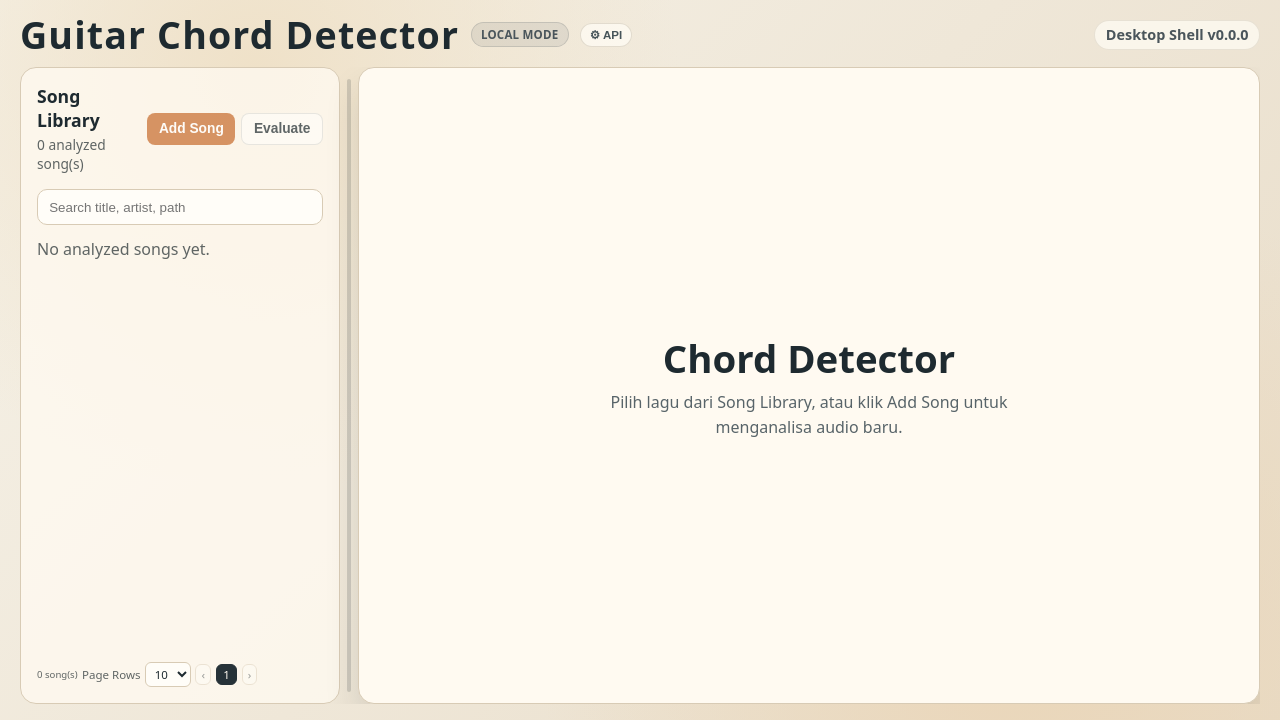
Test: App › renders desktop shell header and idle state
Expected: the heading "Guitar Chord Detector" is shown, [20, 16, 459, 54]
Expected: the button "Open Audio" is not shown
Click the button "Add Song": point(191, 129) [147, 113, 235, 145]
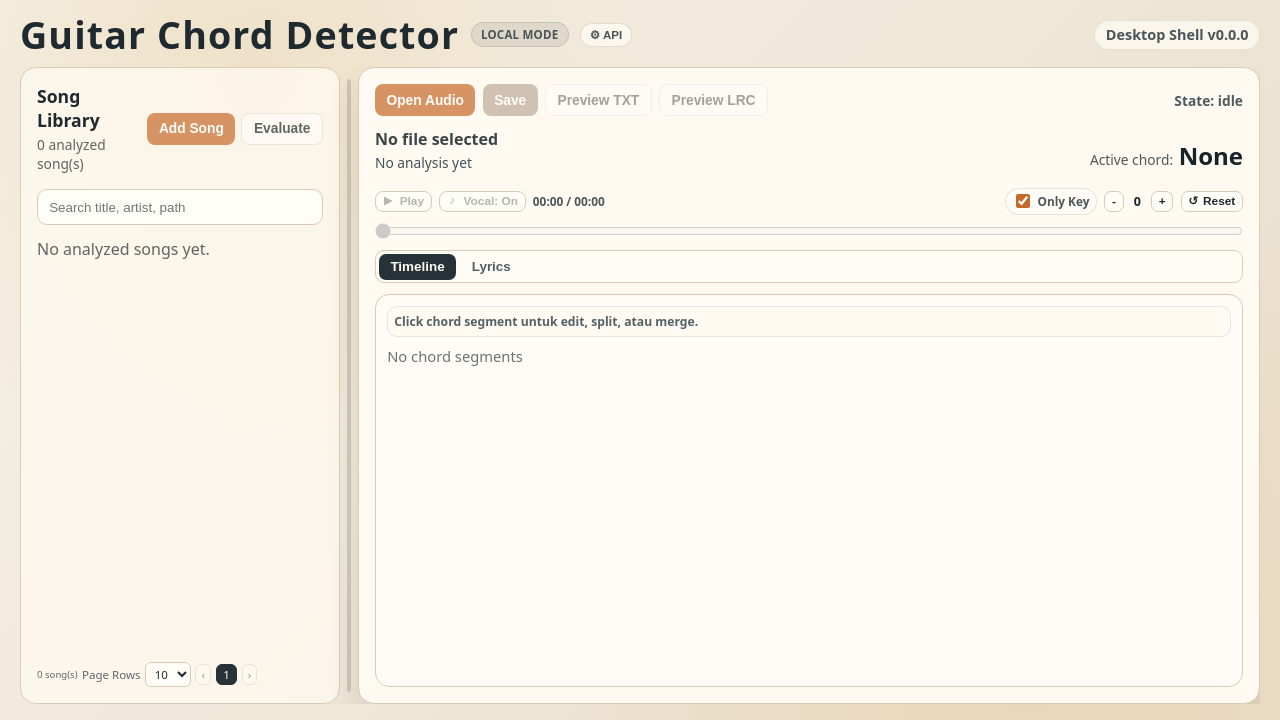
Expected: the text "State: idle" is shown, [1174, 90, 1243, 110]
Expected: the button "Open Audio" is enabled, [375, 84, 475, 116]
Expected: the text "No file selected" is shown, [375, 128, 498, 150]
